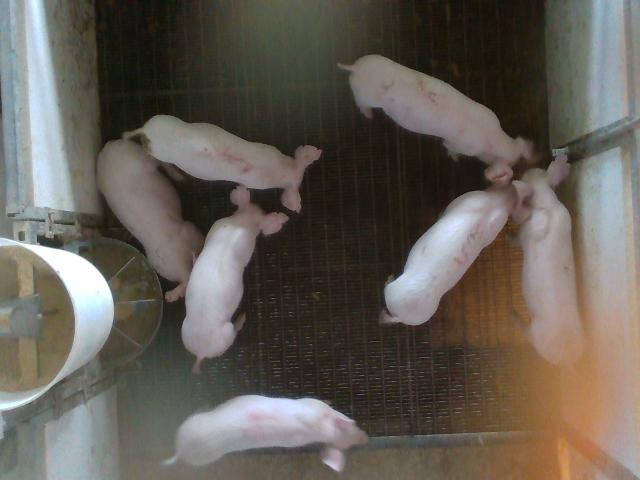pig-3: (380, 182, 530, 324)
pig-4: (164, 395, 368, 472)
pig-5: (125, 115, 321, 212)
